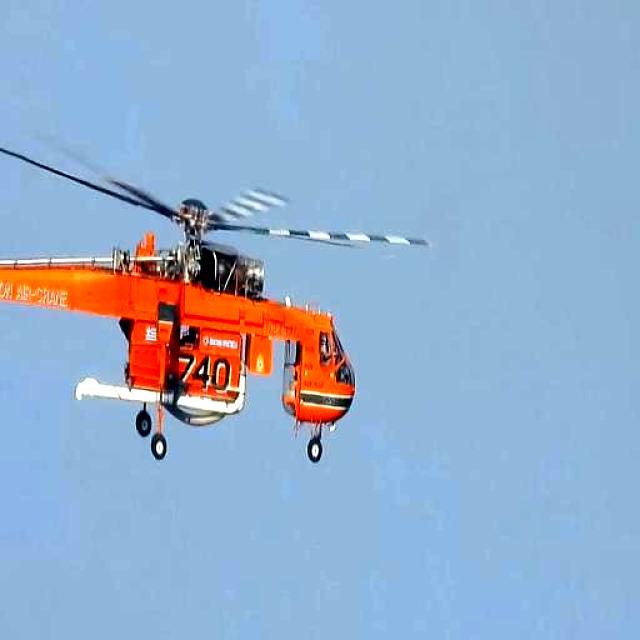drone: (0, 89, 424, 468)
